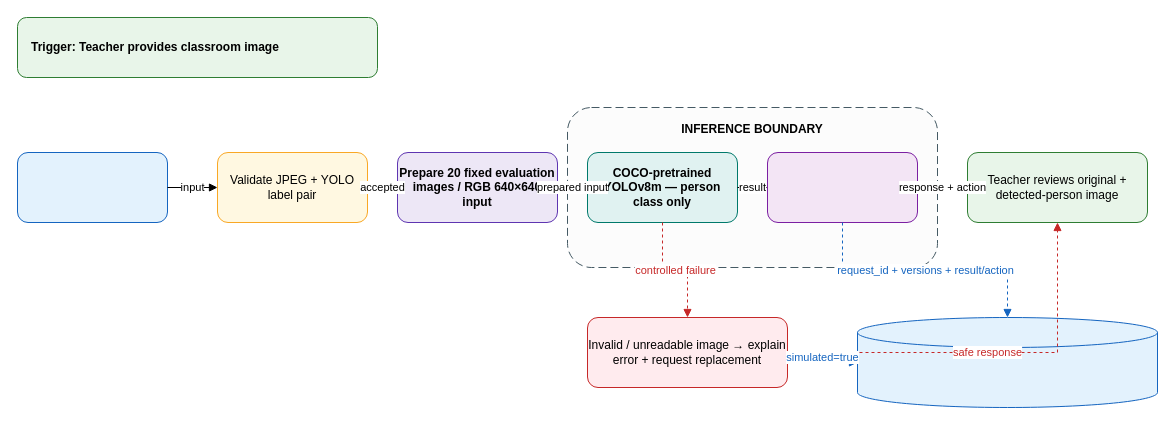
Image size: 1175x425. Some labels were removed from this diagram. Here are the shapes that lost their labels. From the top down, the box of each, then its label:
(16, 152, 168, 222): Classroom JPEG image
(766, 152, 918, 222): Person detections + IoU 0.5 matching / recall calculation
(856, 316, 1158, 408): baseline_metrics.json: metric, counts, settings, versions, hashes
